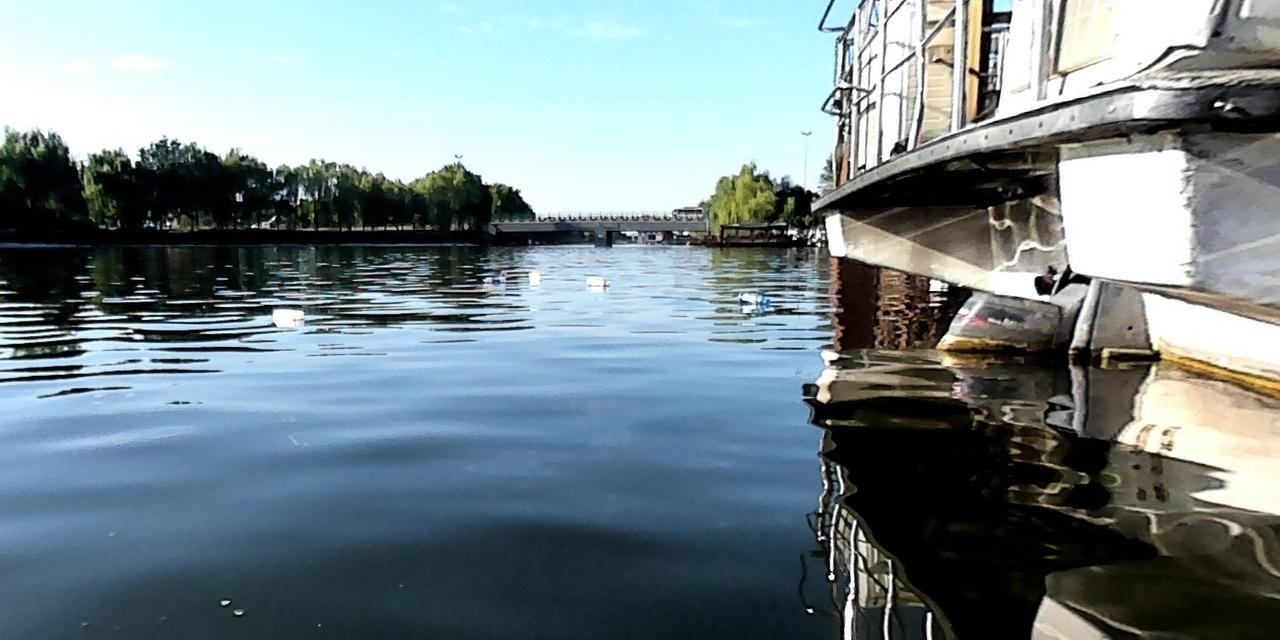bottle: (734, 286, 770, 307), (580, 274, 611, 287), (478, 272, 508, 284)
